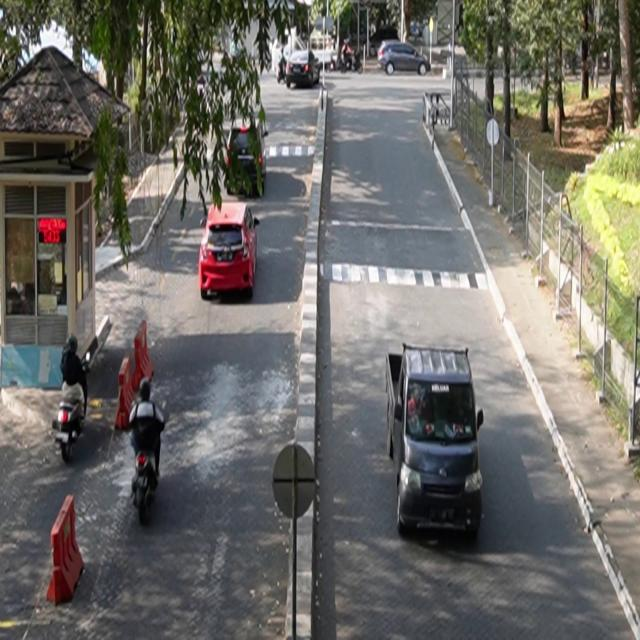car: (386, 343, 485, 539), (199, 202, 261, 301), (379, 41, 432, 77), (286, 50, 321, 89)
